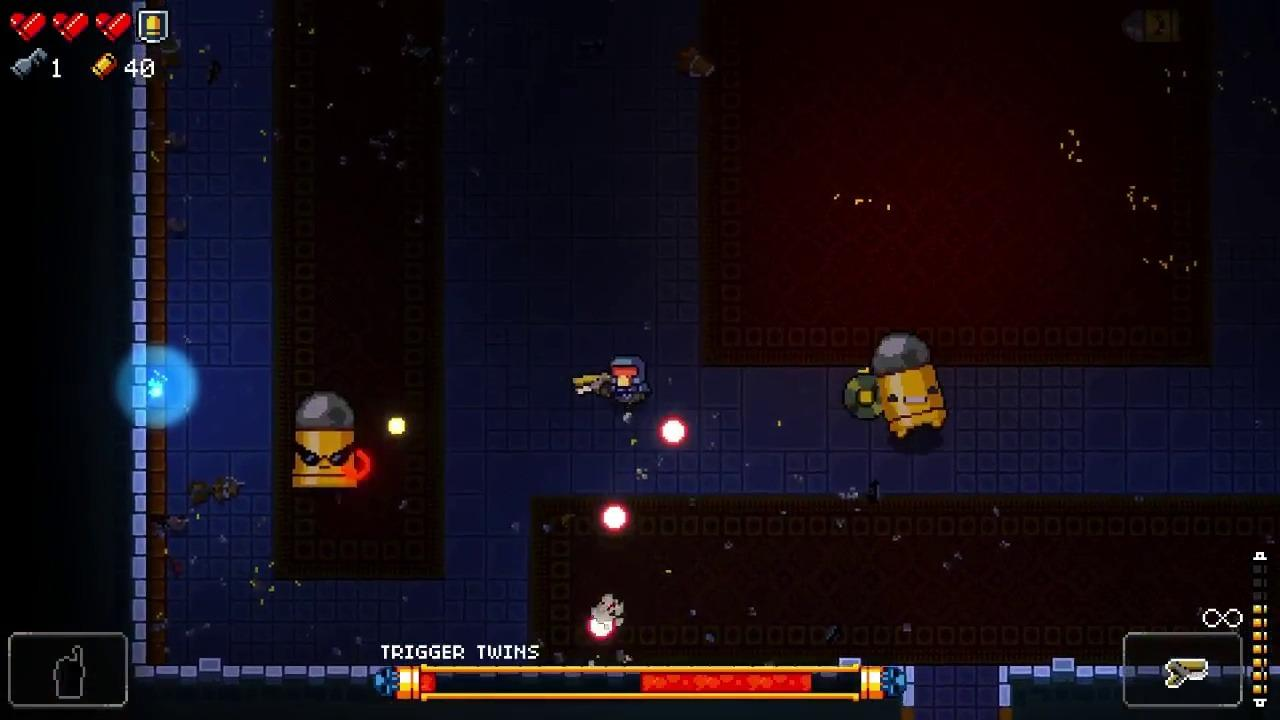boss_shades: (292, 390, 361, 490)
boss_smiley: (871, 337, 950, 437)
bullet: (657, 415, 690, 449), (598, 503, 630, 534), (586, 612, 616, 642)
dead_bullet_kin: (1123, 9, 1184, 48)
player: (606, 353, 654, 408)
